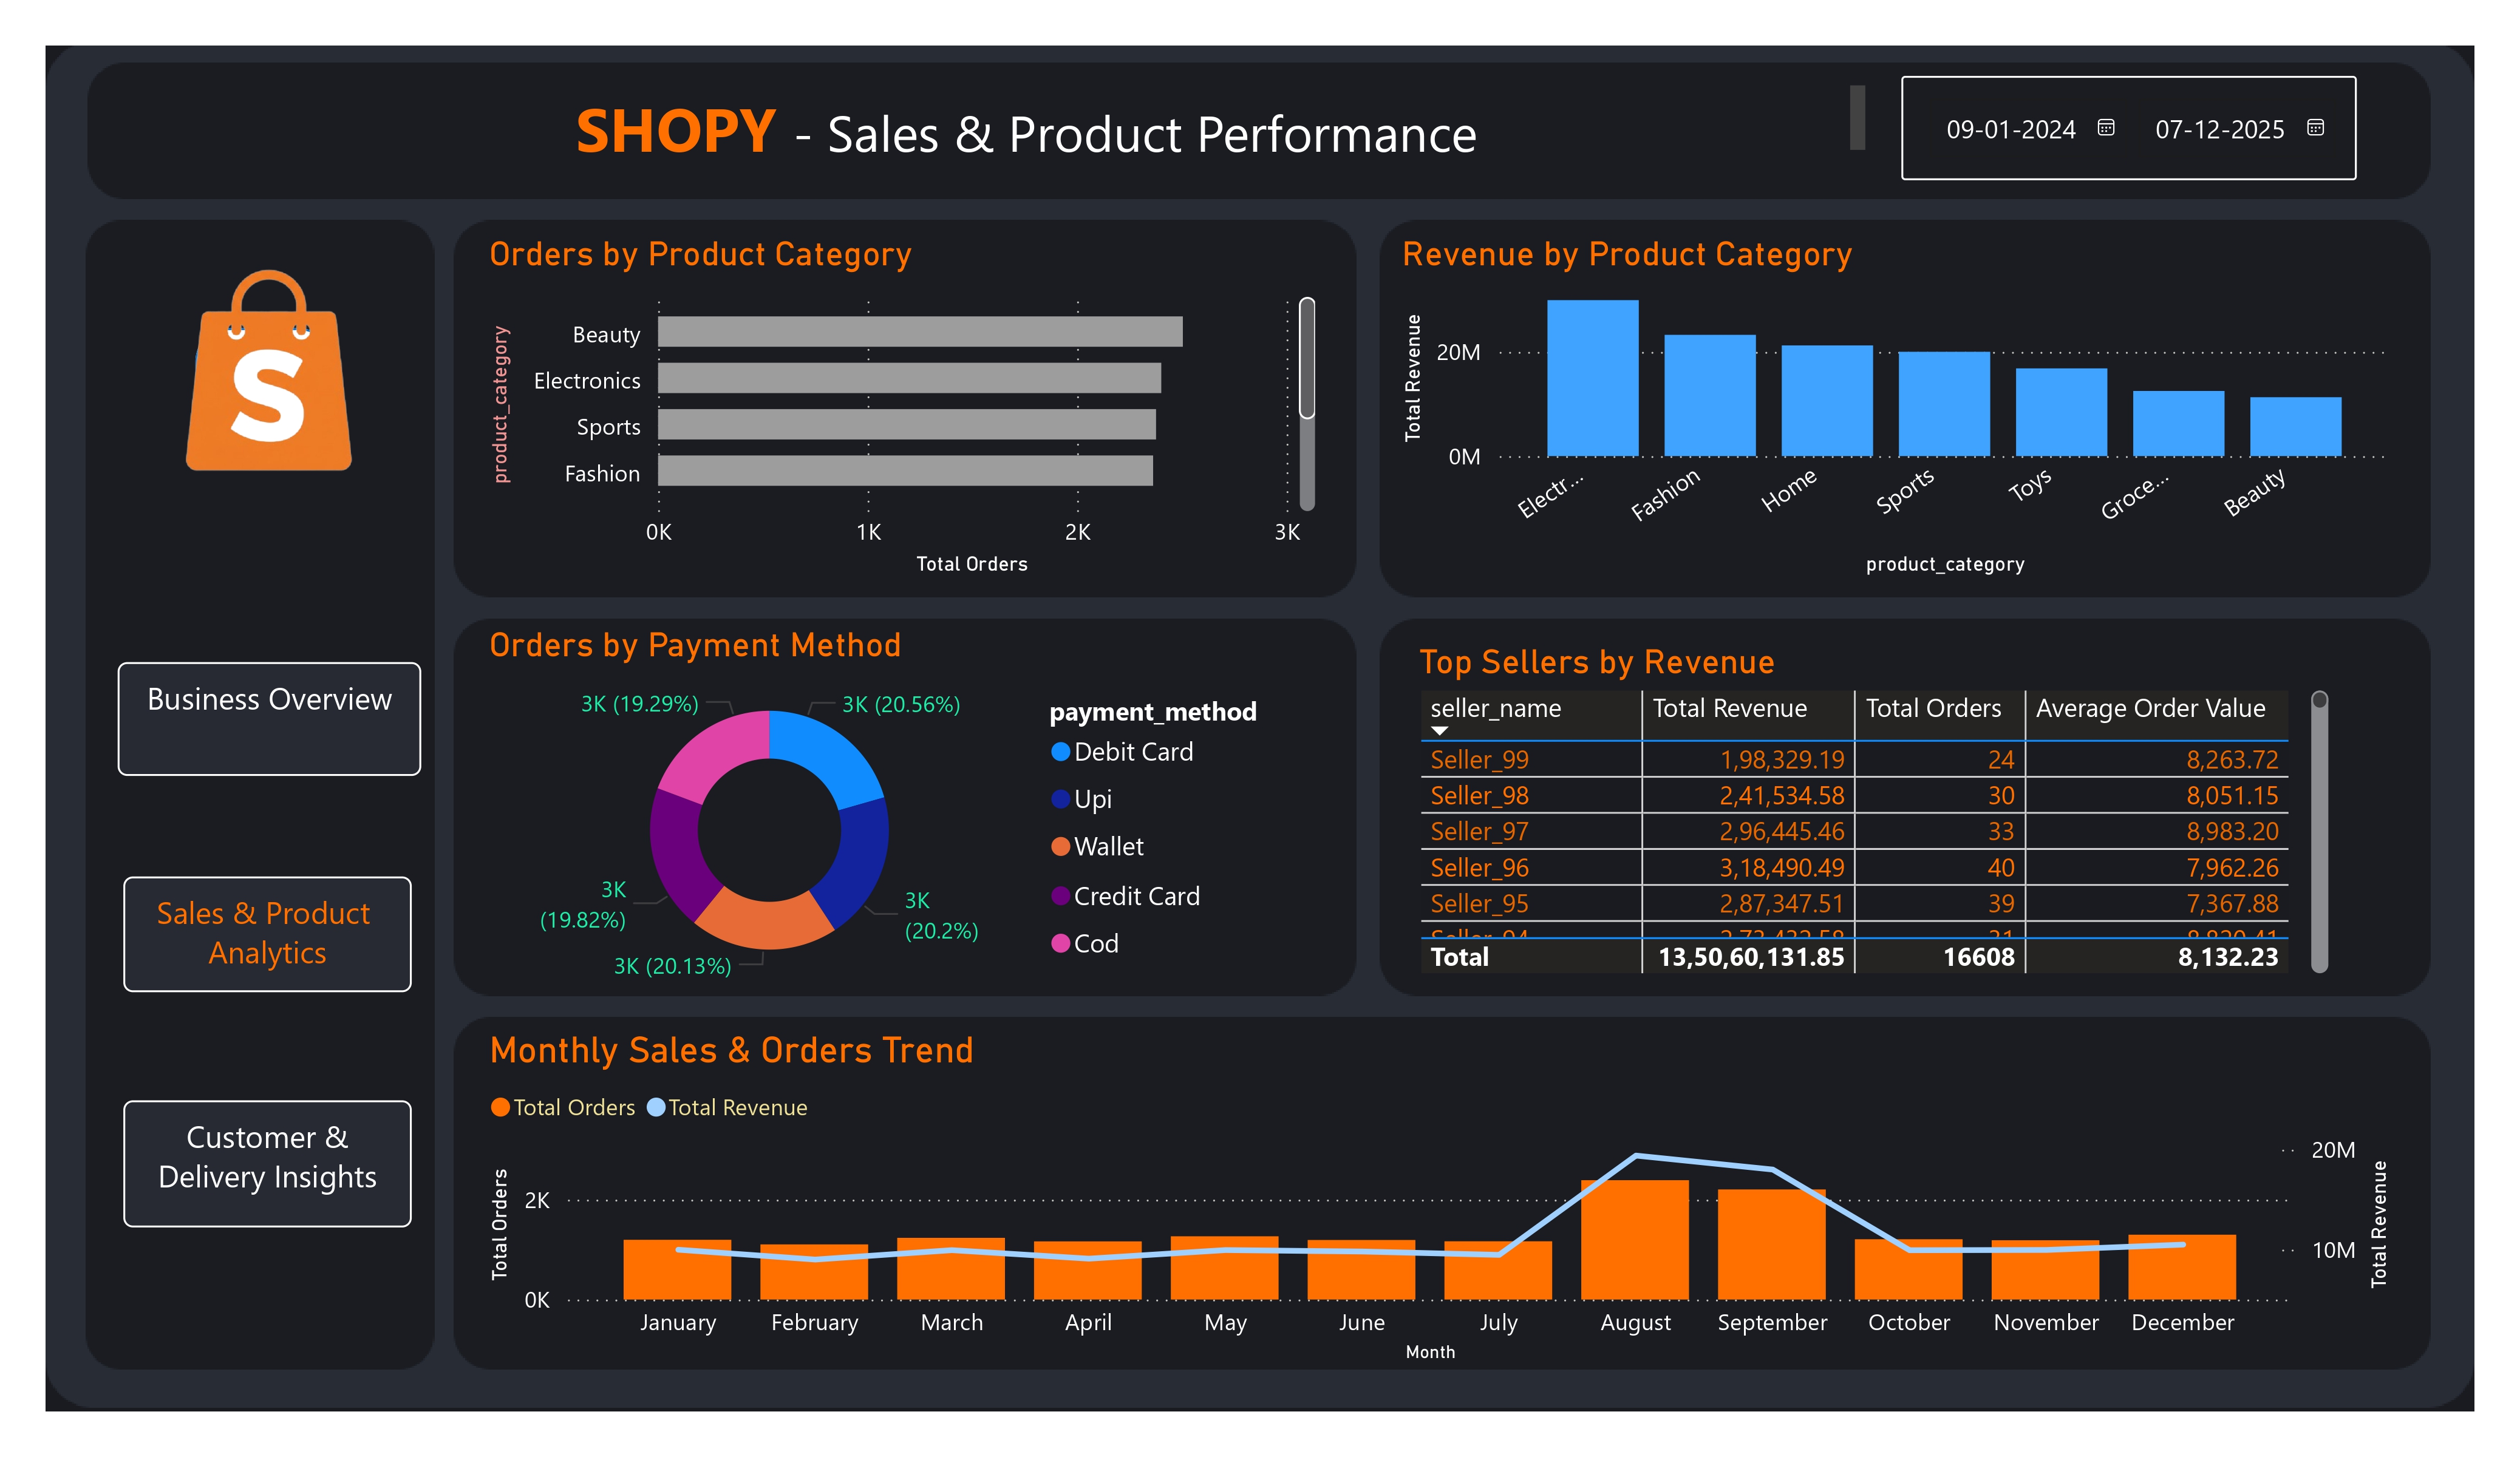

What the dashboard file says about the page in this screenshot:
{"tool":"powerbi","page":{"name":"Sales & Product Analytics","canvas":[1280,720],"ordinal":1},"visuals":[{"type":"barChart","title":"Orders by Product Category","fields":{"Category":["Shopy_Master_Cleaned_Cleaned_Final.product_category"],"Y":["Shopy_Master_Cleaned_Cleaned_Final.Total Orders"]},"box":[228.8,98.8,445,185],"z":0},{"type":"clusteredColumnChart","title":"Revenue by Product Category","fields":{"Category":["Shopy_Master_Cleaned_Cleaned_Final.product_category"],"Y":["Shopy_Master_Cleaned_Cleaned_Final.Total Revenue"]},"box":[710,98.8,531.2,185],"z":1000},{"type":"donutChart","title":"Orders by Payment Method","fields":{"Category":["Shopy_Master_Cleaned_Cleaned_Final.payment_method"],"Y":["Shopy_Master_Cleaned_Cleaned_Final.Total Orders"]},"box":[228.8,305,431.2,196.2],"z":2000},{"type":"tableEx","title":"Top Sellers by Revenue","fields":{"Values":["Shopy_Master_Cleaned_Cleaned_Final.seller_name","Shopy_Master_Cleaned_Cleaned_Final.Total Revenue","Shopy_Master_Cleaned_Cleaned_Final.Total Orders","Shopy_Master_Cleaned_Cleaned_Final.Average Order Value"]},"box":[718.8,313.8,488.8,180],"z":3000},{"type":"lineClusteredColumnComboChart","title":"Monthly Sales & Orders Trend","fields":{"Category":["Shopy_Master_Cleaned_Cleaned_Final.order_date.Variation.Date Hierarchy.Month"],"Y":["Shopy_Master_Cleaned_Cleaned_Final.Total Orders"],"Y2":["Shopy_Master_Cleaned_Cleaned_Final.Total Revenue"]},"box":[228.8,517.5,1012.5,180],"z":4000},{"type":"textbox","box":[33.8,16.2,930,55],"z":5000},{"type":"shape","box":[78.8,148.8,72.5,70],"z":6000},{"type":"slicer","title":"Date Range","fields":{"Values":["Shopy_Master_Cleaned_Cleaned_Final.order_date"]},"box":[977.5,16.2,240,55],"z":7000},{"type":"image","box":[53.8,106.2,136.2,135],"z":8000},{"type":"textbox","box":[41.2,437.5,151.2,61.2],"z":9000},{"type":"textbox","box":[41.2,556.2,151.2,66.2],"z":10000},{"type":"textbox","box":[38,325,159.8,71.7],"z":11000},{"type":"actionButton","box":[36,324.4,161.6,72.1],"z":11001},{"type":"actionButton","box":[40.7,555.8,151.2,66.3],"z":11002}]}

Visuals, with their boxes on the page's 1280x720 design canvas (x1, y1, x2, y2). These are canvas units, not pixel positions in the 2520x1457 screenshot, which may show the page scaled, cropped or inside an application window:
"Orders by Product Category" barChart: left=229, top=99, right=674, bottom=284
"Revenue by Product Category" clusteredColumnChart: left=710, top=99, right=1241, bottom=284
"Orders by Payment Method" donutChart: left=229, top=305, right=660, bottom=501
"Top Sellers by Revenue" tableEx: left=719, top=314, right=1208, bottom=494
"Monthly Sales & Orders Trend" lineClusteredColumnComboChart: left=229, top=518, right=1241, bottom=698
textbox: left=34, top=16, right=964, bottom=71
shape: left=79, top=149, right=151, bottom=219
"Date Range" slicer: left=978, top=16, right=1218, bottom=71
image: left=54, top=106, right=190, bottom=241
textbox: left=41, top=438, right=192, bottom=499
textbox: left=41, top=556, right=192, bottom=622
textbox: left=38, top=325, right=198, bottom=397
actionButton: left=36, top=324, right=198, bottom=396
actionButton: left=41, top=556, right=192, bottom=622
